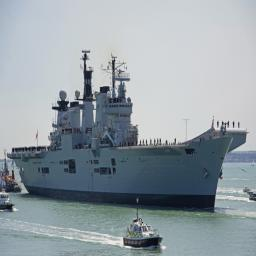Portanaves: (7, 46, 250, 214)
